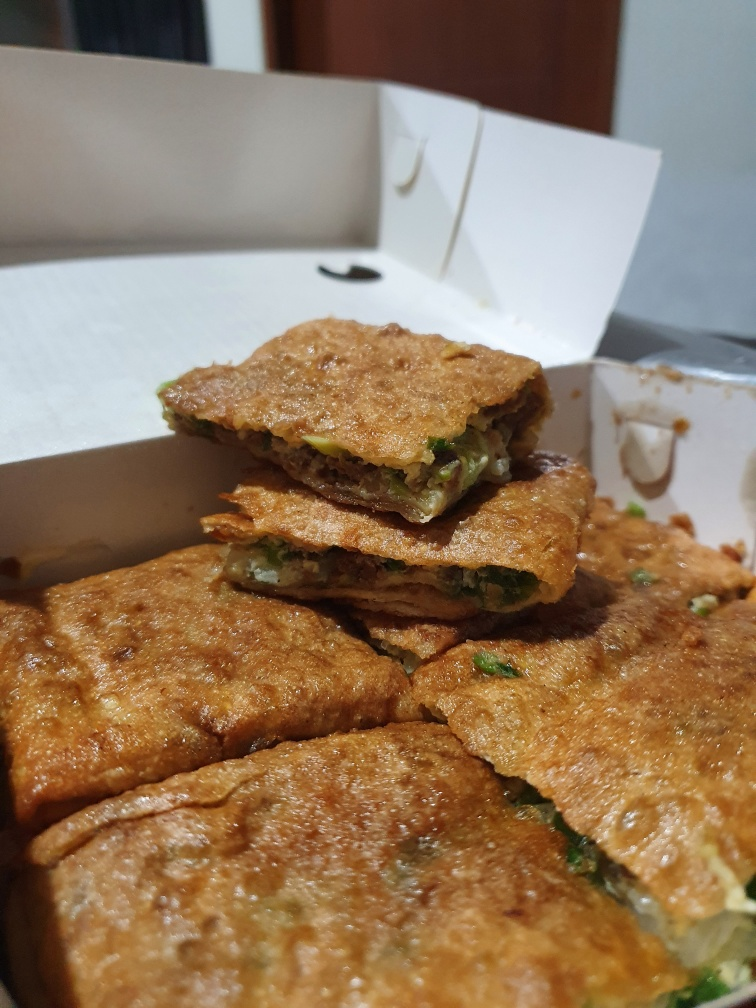martabak telor: (76, 711, 688, 1003), (1, 532, 439, 793), (417, 582, 756, 904), (169, 306, 543, 511), (212, 450, 589, 600)
